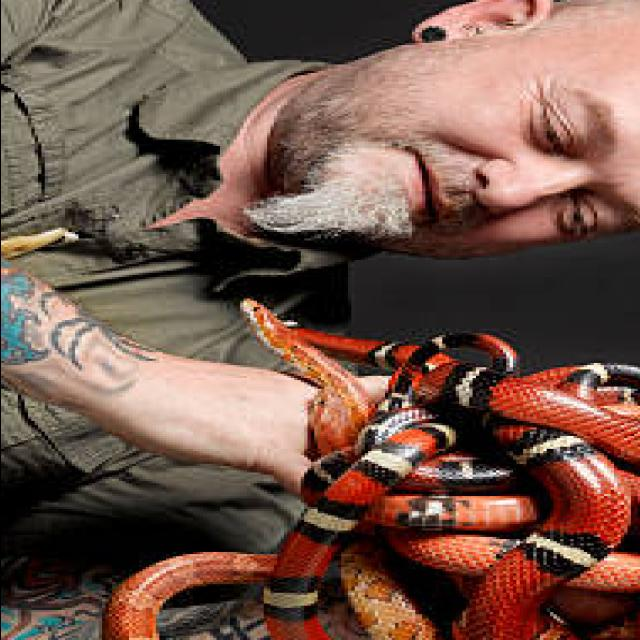Snake: (101, 299, 640, 640)
